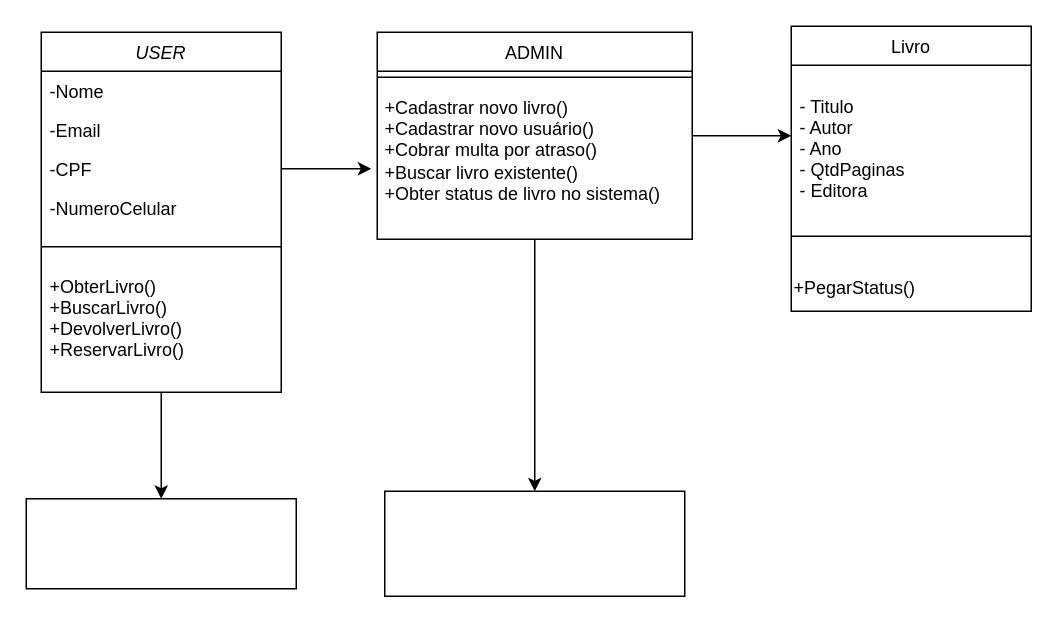
This 1058x623 diagram has some shape labels left out. The shapes that lost their labels are listed below. From the top down, each one's centre as x and y in pixels, then its label:
point (160, 543): Interface do usuario
point (534, 543): ADMIN Interface
